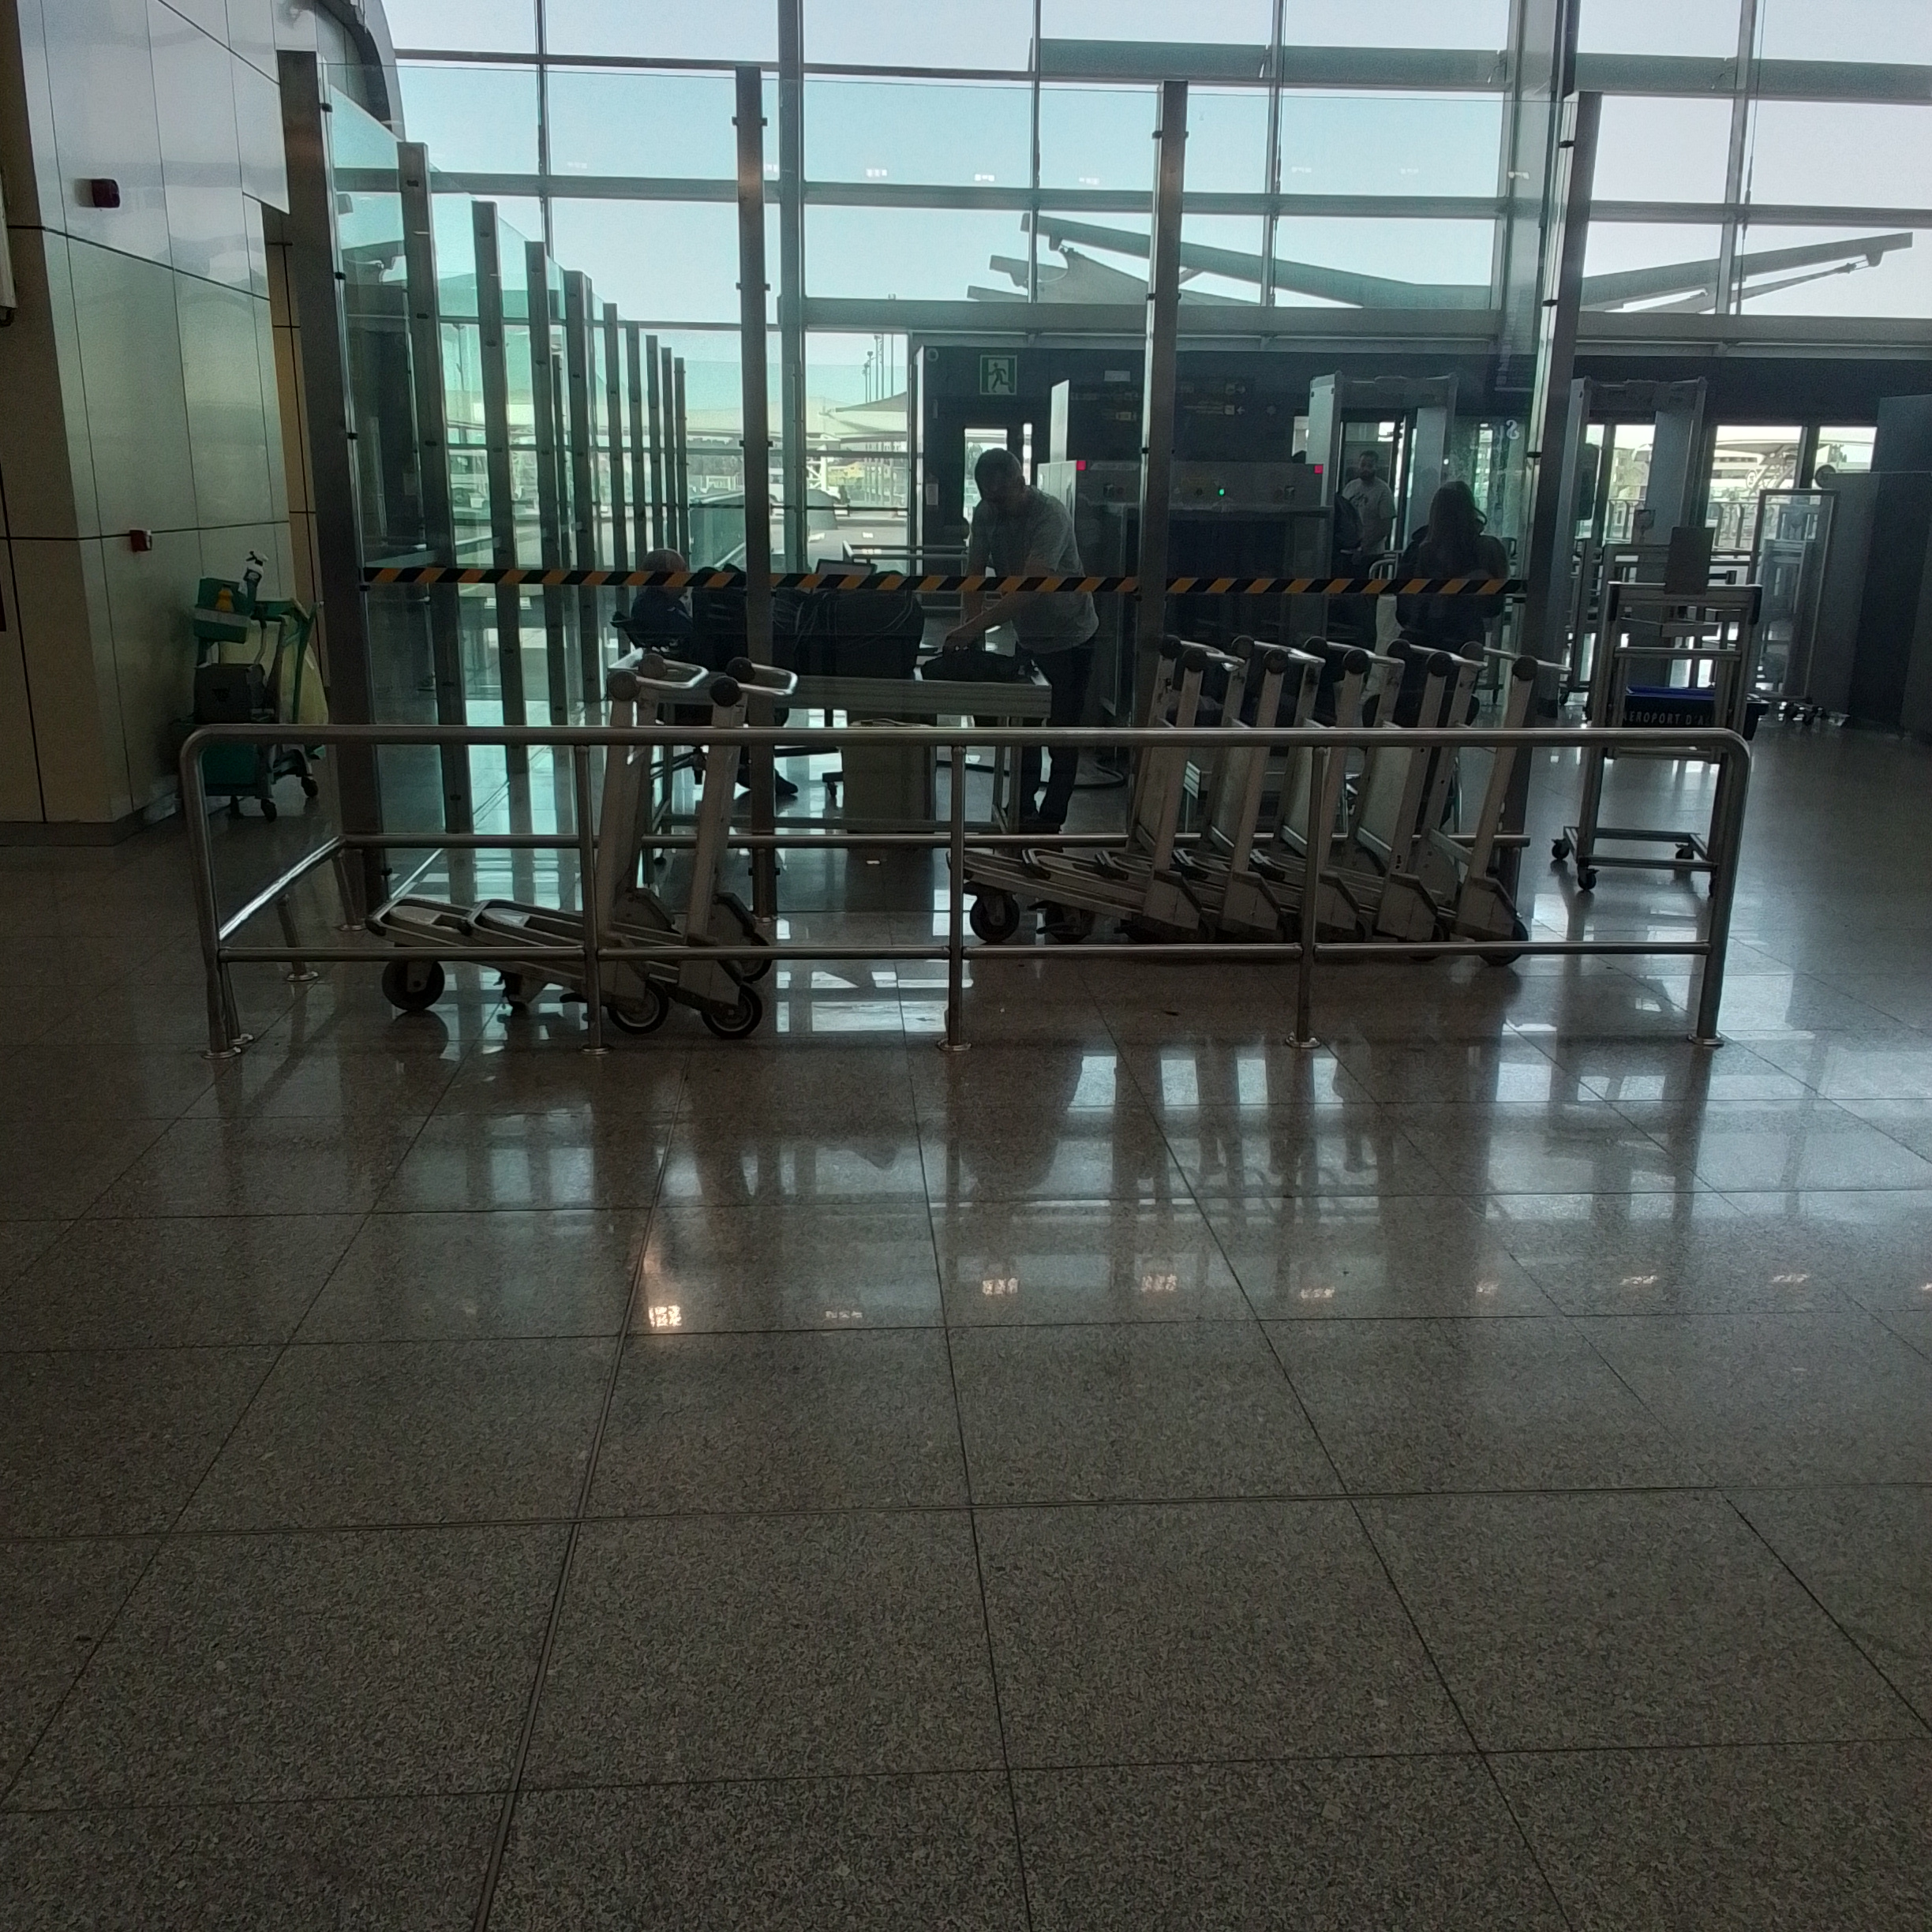airport-trolley: (476, 616, 805, 1058), (379, 658, 713, 1021), (947, 635, 1240, 962), (1037, 621, 1290, 970), (1373, 623, 1486, 957), (1306, 614, 1410, 977), (1240, 609, 1341, 975), (1456, 639, 1566, 948)
